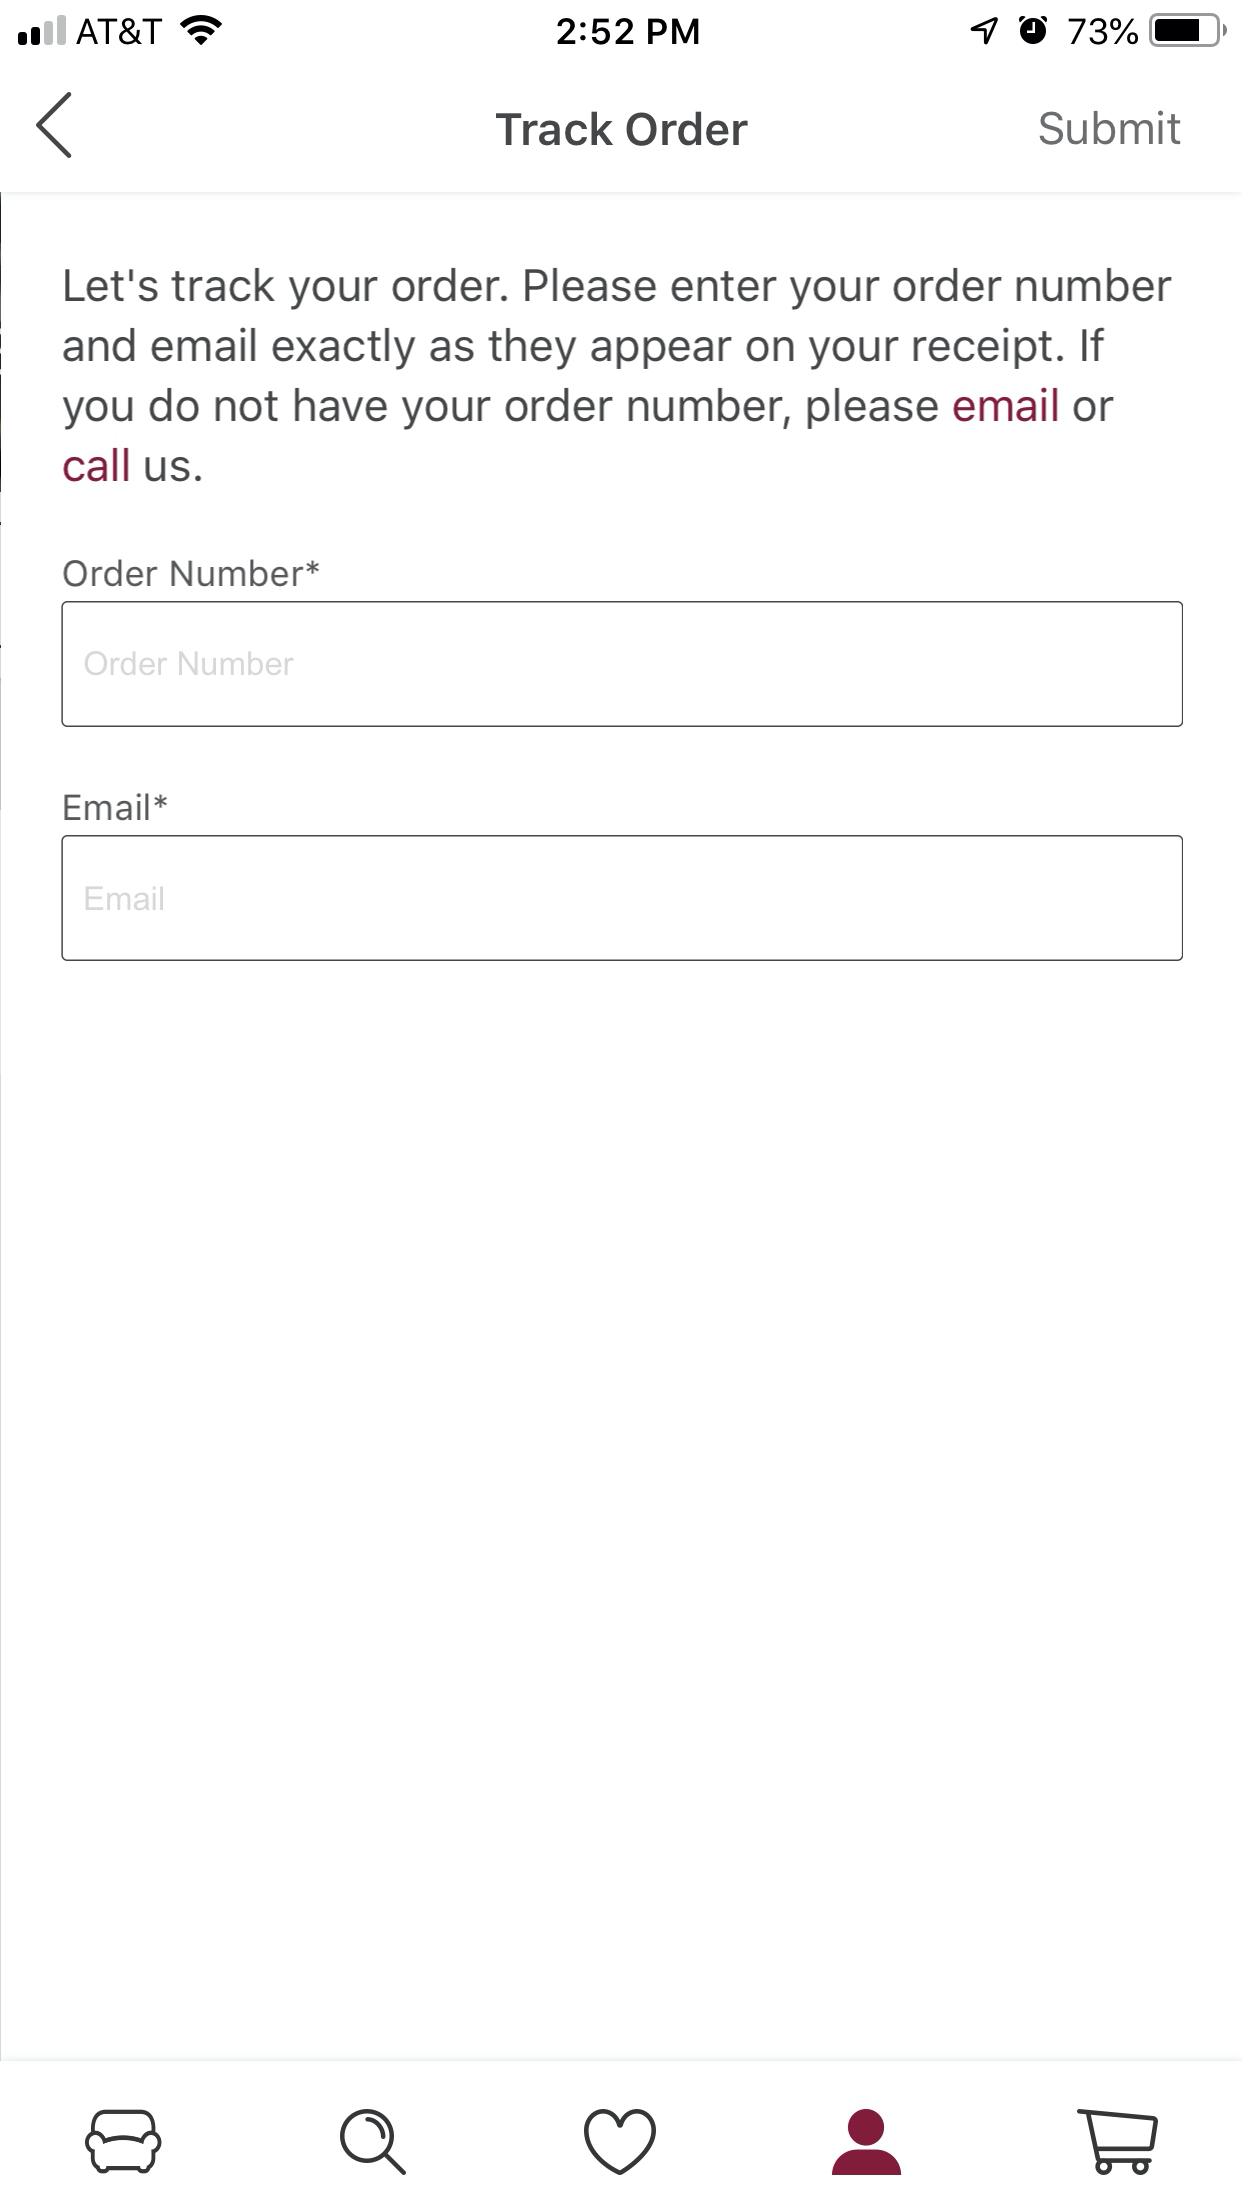EditText: (61, 601, 1184, 728), (61, 836, 1184, 961)
Icon: (1077, 2109, 1159, 2175), (582, 2108, 657, 2175), (831, 2109, 902, 2176), (340, 2108, 406, 2175), (36, 93, 73, 161)
Image: (85, 2109, 164, 2175)
Text: (64, 268, 1174, 484), (496, 111, 751, 149), (64, 560, 320, 588), (85, 651, 296, 676), (1039, 111, 1181, 147), (64, 793, 168, 822), (86, 886, 165, 911)
UpperTaskBar: (2, 2, 1242, 49)
